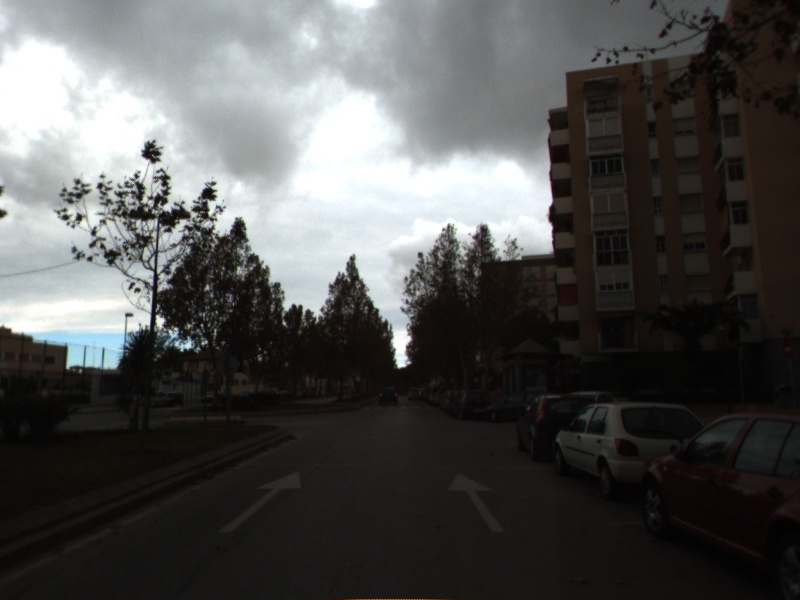STRAIGHT: (216, 468, 305, 536), (445, 470, 507, 534)
